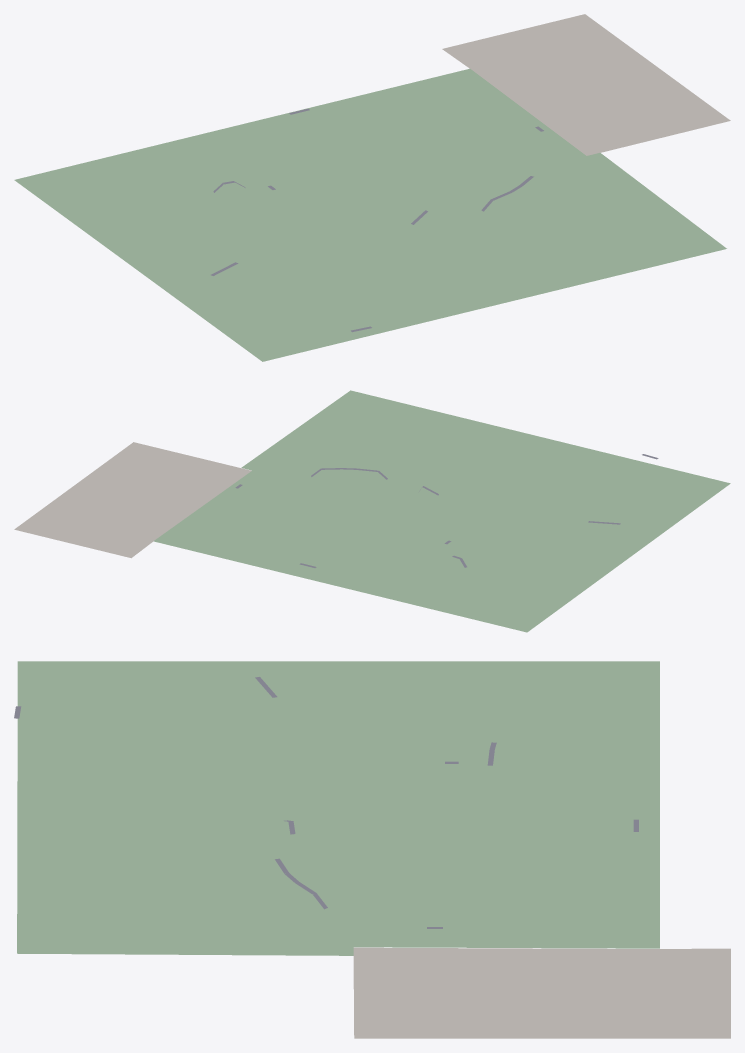
Rendered from 99_99_mid.glb.
The picture shows the model from 3 angles, top to bottom: view 1: azimuth 30°, elevation 25°; view 2: azimuth 150°, elevation 25°; view 3: azimuth 270°, elevation 25°; orthographic projection. The views are drawn at different scales.
Size of the model in its own units: 500 by 7.06 by 402.
